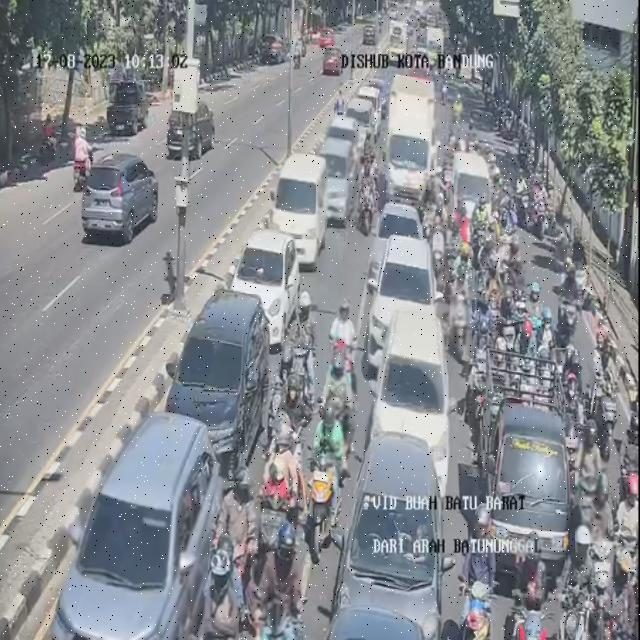cars: (60, 413, 227, 640), (339, 437, 451, 640), (163, 290, 267, 474), (486, 400, 574, 594), (365, 300, 451, 465), (364, 228, 434, 362), (233, 231, 301, 347), (271, 155, 325, 266), (303, 605, 436, 640), (377, 204, 426, 291), (316, 130, 357, 220), (454, 151, 496, 228), (326, 116, 364, 172), (345, 95, 378, 146)
motorcycle: (304, 399, 349, 559), (257, 435, 303, 589), (512, 534, 562, 639), (208, 496, 246, 632), (252, 536, 300, 640), (326, 348, 359, 476), (613, 462, 640, 617), (282, 298, 314, 414), (575, 434, 608, 542), (270, 391, 300, 497), (596, 336, 622, 458), (603, 553, 639, 640), (617, 396, 640, 532), (449, 578, 496, 640), (331, 302, 360, 401), (266, 344, 291, 450), (558, 263, 582, 346), (203, 585, 239, 640), (462, 352, 487, 427), (450, 288, 472, 364), (502, 608, 550, 640), (500, 244, 527, 291), (433, 217, 452, 277), (360, 168, 378, 230), (526, 620, 578, 640), (472, 201, 492, 250), (417, 171, 435, 224), (586, 618, 628, 640), (450, 98, 468, 148), (556, 206, 567, 262)
truck: (386, 77, 441, 205)
